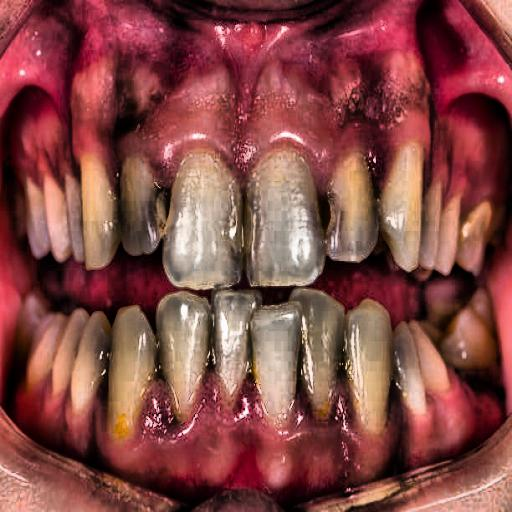Calculus: (63, 115, 512, 442)
